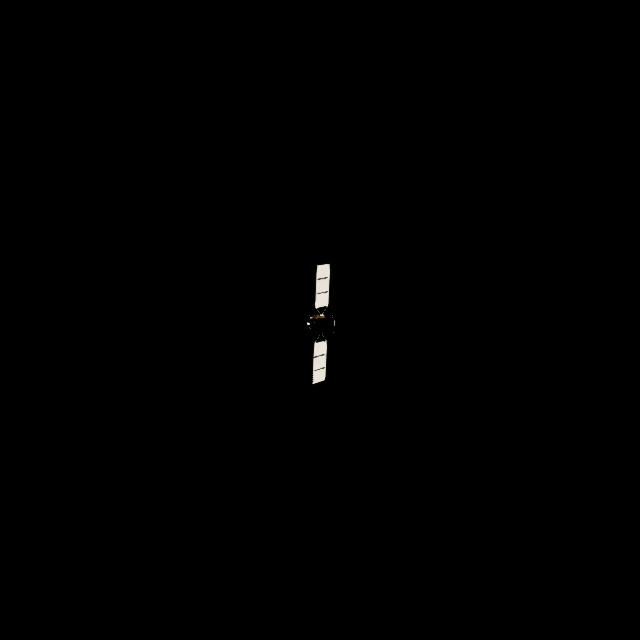satellite: (306, 265, 337, 389)
